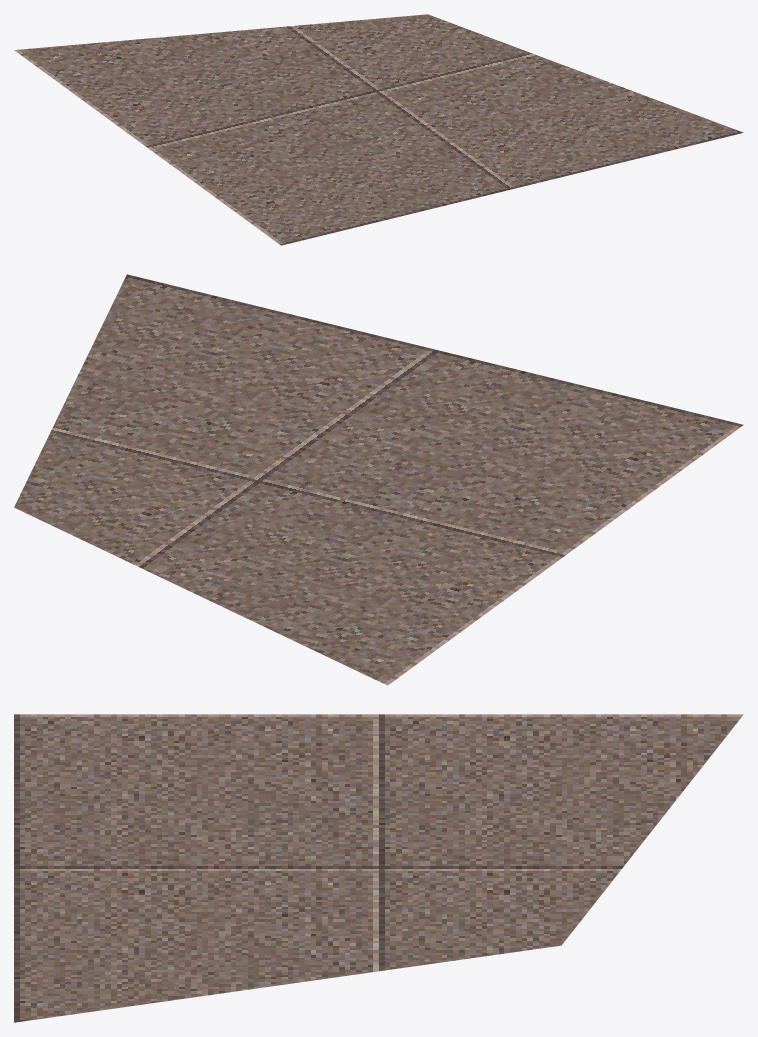
The model's file is floor_corner_round_half.fbx.
3 views of the same model, one above another, from view 1: azimuth 30°, elevation 25°; view 2: azimuth 150°, elevation 25°; view 3: azimuth 270°, elevation 25° (orthographic). The views are drawn at different scales.
Visible parts, largest first — view 1: floor_corner_round_half; view 2: floor_corner_round_half; view 3: floor_corner_round_half.
Boxes of the visible parts, x1,y1,x2,y2 form: floor_corner_round_half: (14,14,743,245); floor_corner_round_half: (14,274,743,685); floor_corner_round_half: (14,714,743,1022).
Bounding box in the file's own units: 200 × 3.26e-05 × 200.
Materials: 1 (1 with a texture image).
